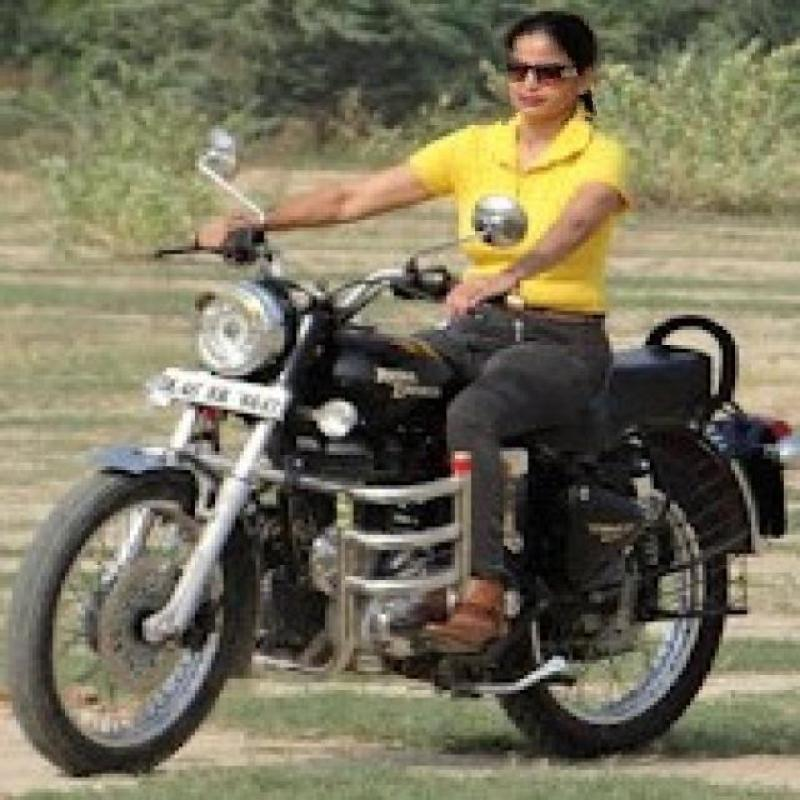nohelmet: (494, 15, 595, 125)
